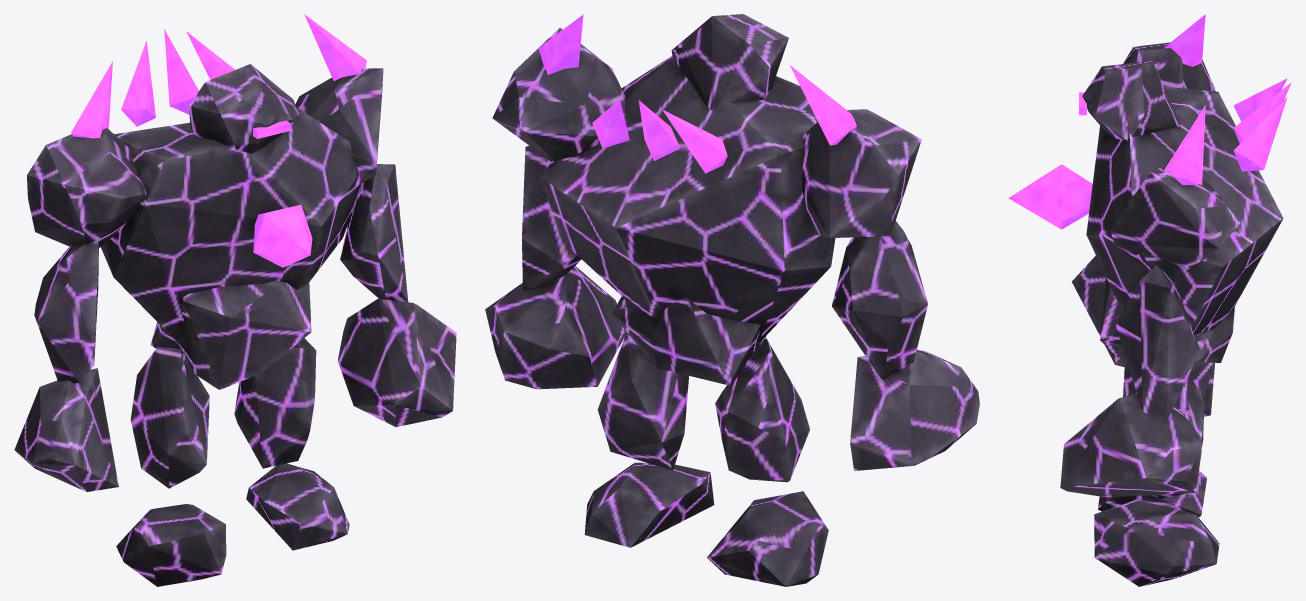
Rendered from e_golem.glb.
3 views of the same model, side by side, from view 1: azimuth 30°, elevation 25°; view 2: azimuth 150°, elevation 25°; view 3: azimuth 270°, elevation 25° (orthographic). The views are drawn at different scales.
Parts seen in each view (by area): view 1: e_golem; view 2: e_golem; view 3: e_golem.
Part boxes in pixels (x1,y1,x2,y2): e_golem: [14, 14, 456, 586]; e_golem: [485, 14, 979, 586]; e_golem: [1008, 14, 1291, 586].
Bounding box in the file's own units: 1.84 × 2.03 × 1.06.
1 material, 1 textured.
